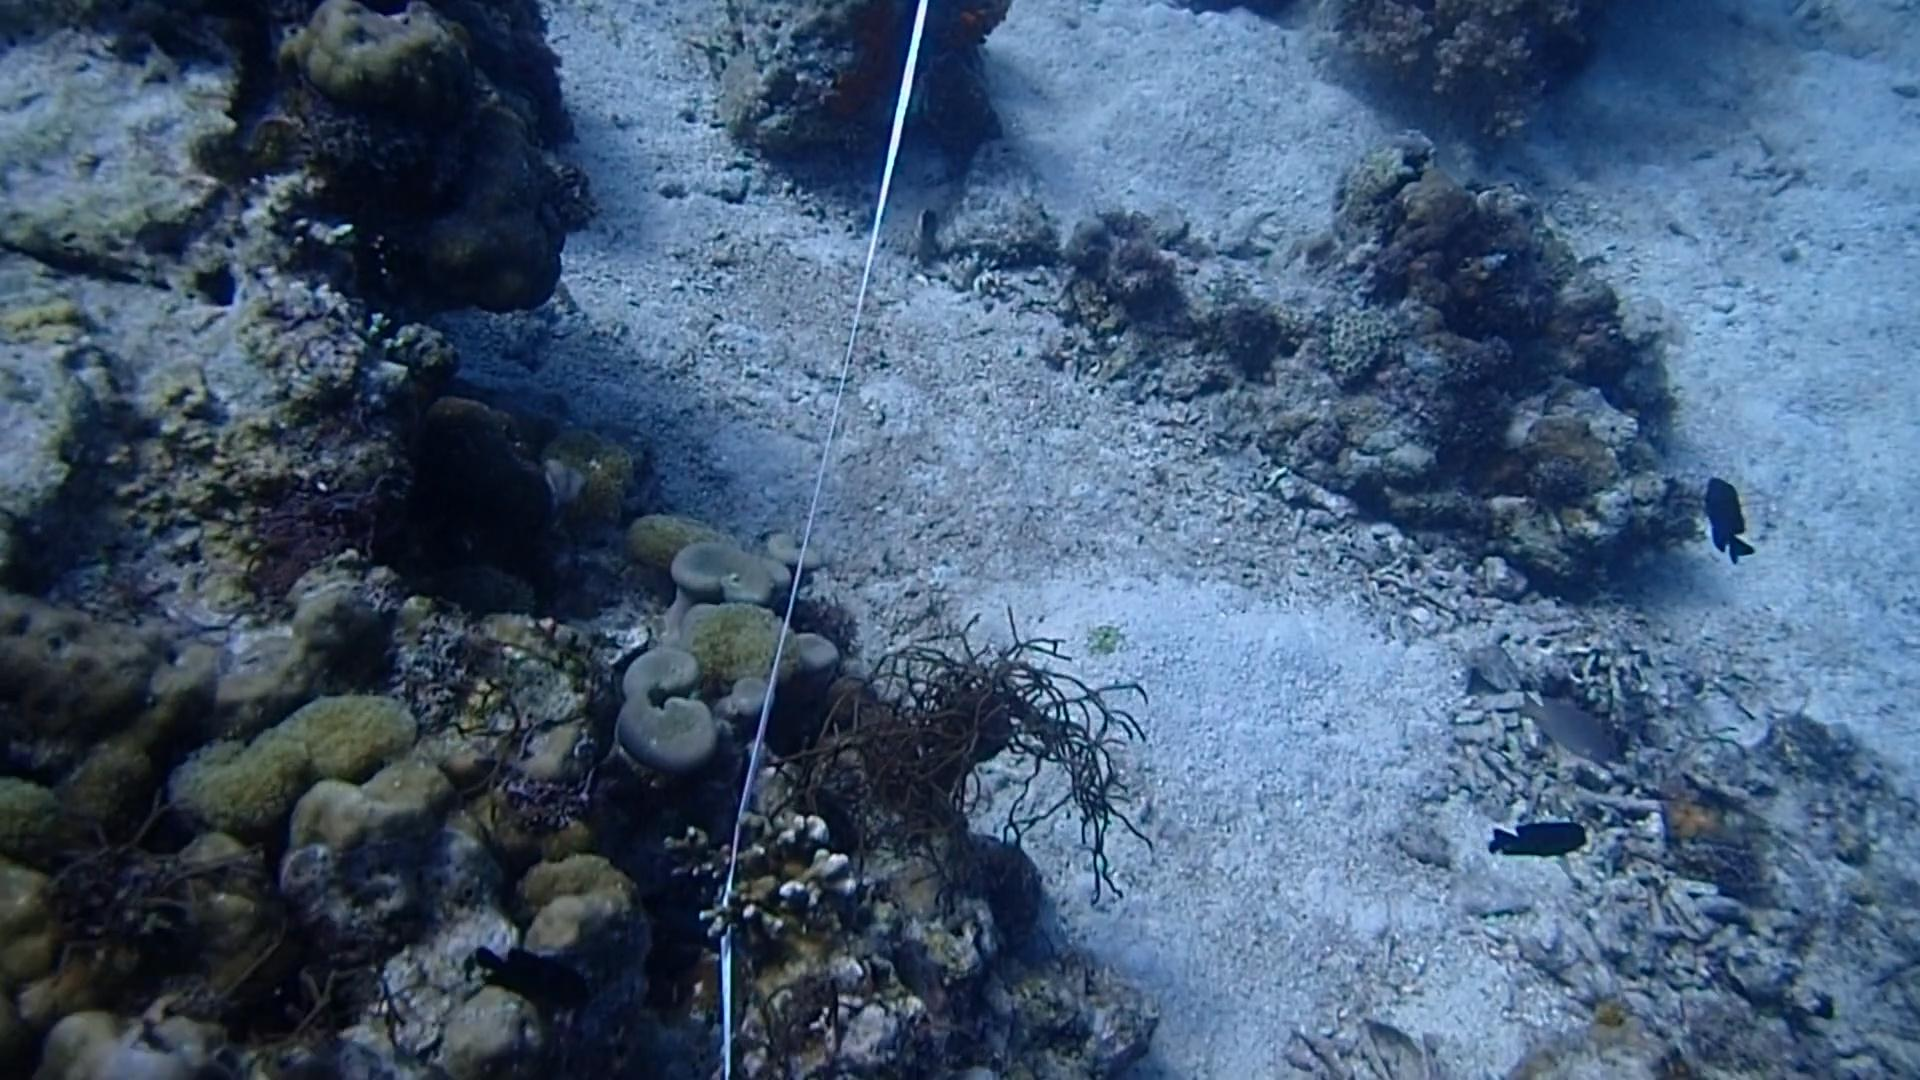Dark Fish: (1683, 468, 1764, 578), (1482, 814, 1597, 869)
Light Fish: (1507, 675, 1621, 770)
